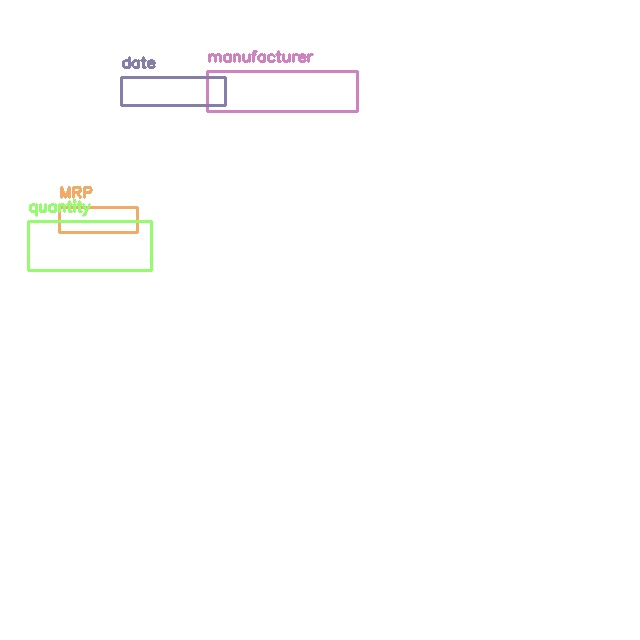MRP: (59, 207, 137, 232)
date: (121, 77, 225, 105)
manufacturer: (207, 71, 357, 111)
quantity: (28, 221, 151, 270)
